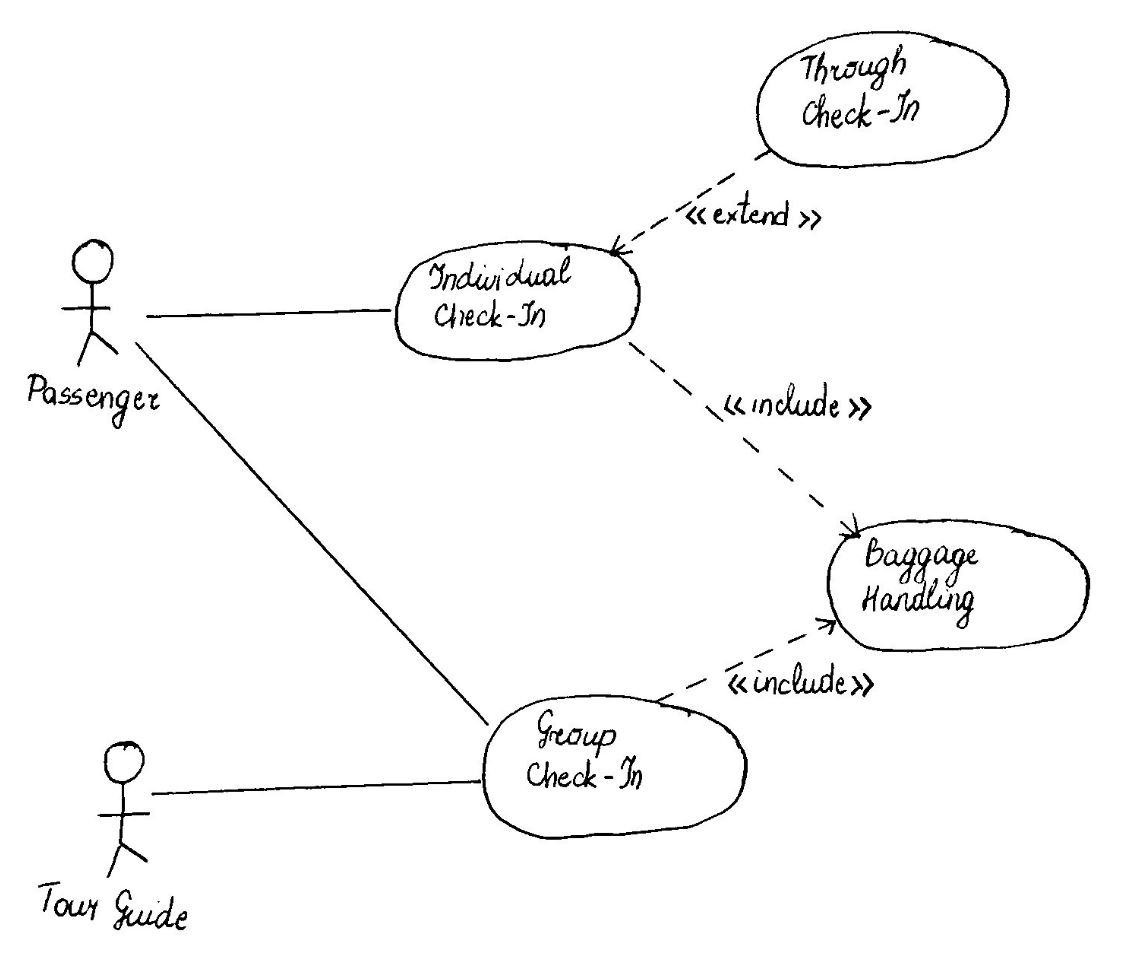actor: (84, 739, 156, 887), (60, 235, 123, 375)
association: (132, 339, 488, 726), (627, 340, 856, 538), (610, 149, 771, 254), (657, 608, 834, 699), (150, 759, 479, 804), (145, 293, 386, 331)
text: (863, 536, 993, 632), (423, 260, 582, 334), (528, 709, 656, 799), (798, 52, 928, 139), (20, 365, 166, 436), (32, 880, 201, 937), (715, 377, 883, 422), (688, 188, 822, 242), (729, 669, 888, 699)
use_case: (481, 690, 749, 843), (825, 519, 1092, 655), (757, 28, 1011, 170), (389, 238, 640, 366)
